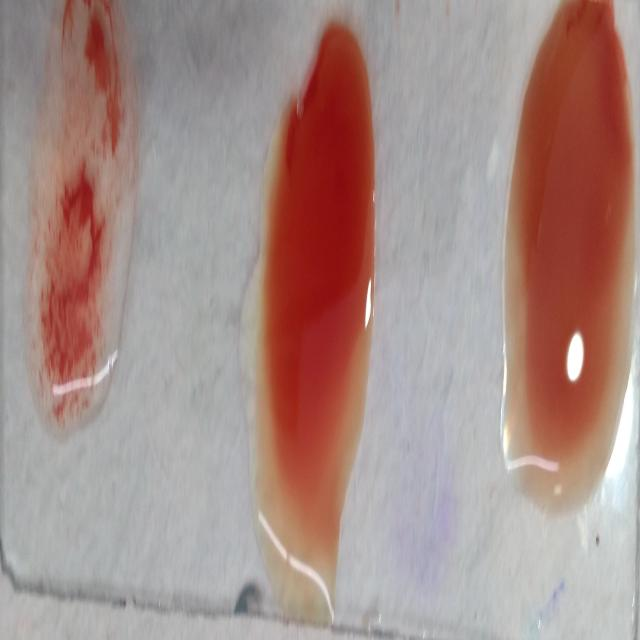D: (42, 0, 132, 422)
